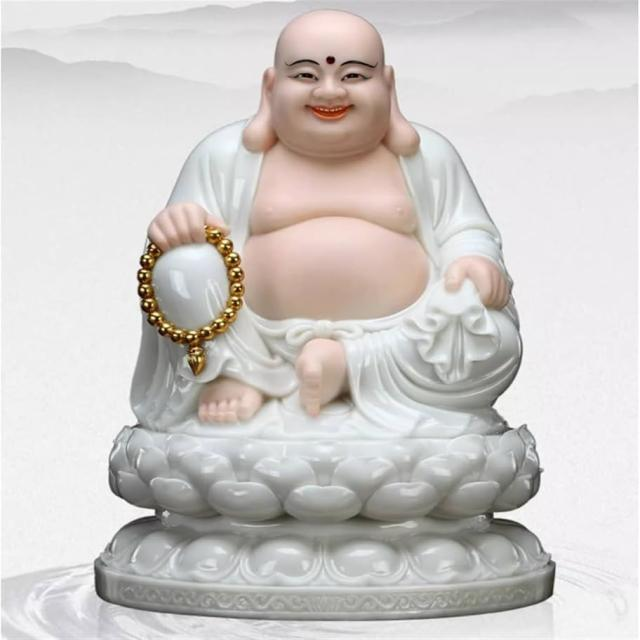Smiling Buddha: (132, 7, 524, 442)
